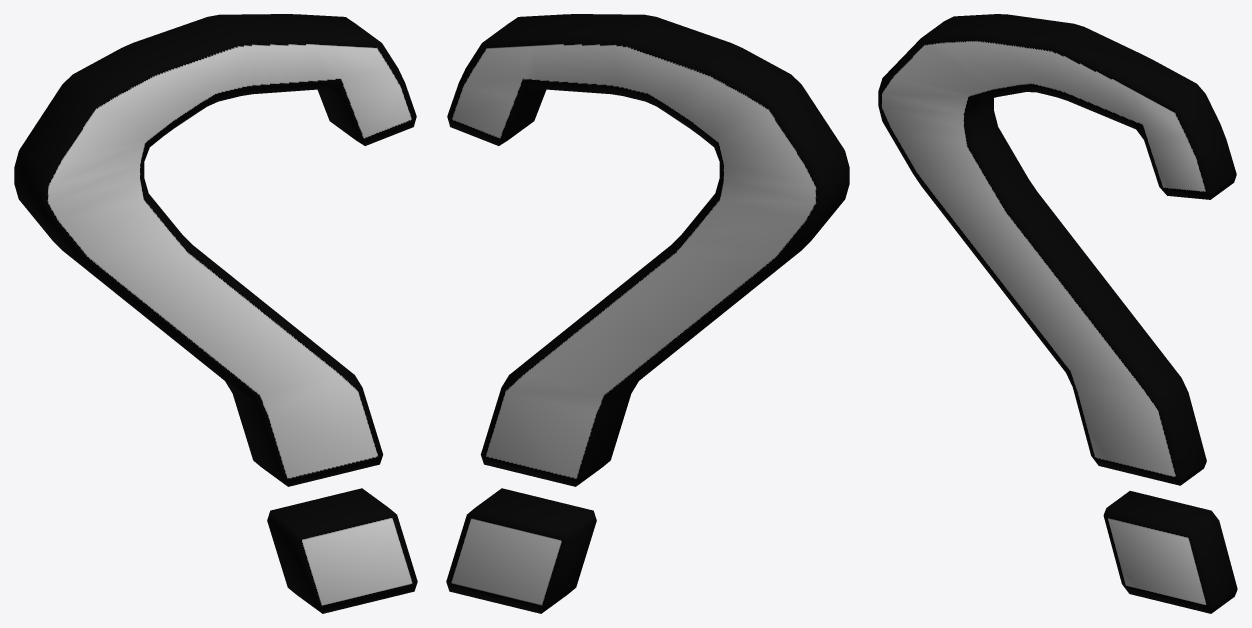
File: questionMark3DMegaKart(22-04-05).fbx
The picture shows the model from 3 angles, left to right: view 1: azimuth 30°, elevation 25°; view 2: azimuth 150°, elevation 25°; view 3: azimuth 330°, elevation 25°; orthographic projection. The views are drawn at different scales.
Visible parts, largest first — view 1: Cube; view 2: Cube; view 3: Cube.
Boxes of the visible parts, x1=… form: Cube: x1=14, y1=14, x2=417, y2=613; Cube: x1=446, y1=14, x2=849, y2=613; Cube: x1=878, y1=14, x2=1237, y2=613.
Size of the model in its own units: 43.7 by 66.37 by 6.
Materials: 1 (1 with a texture image).
